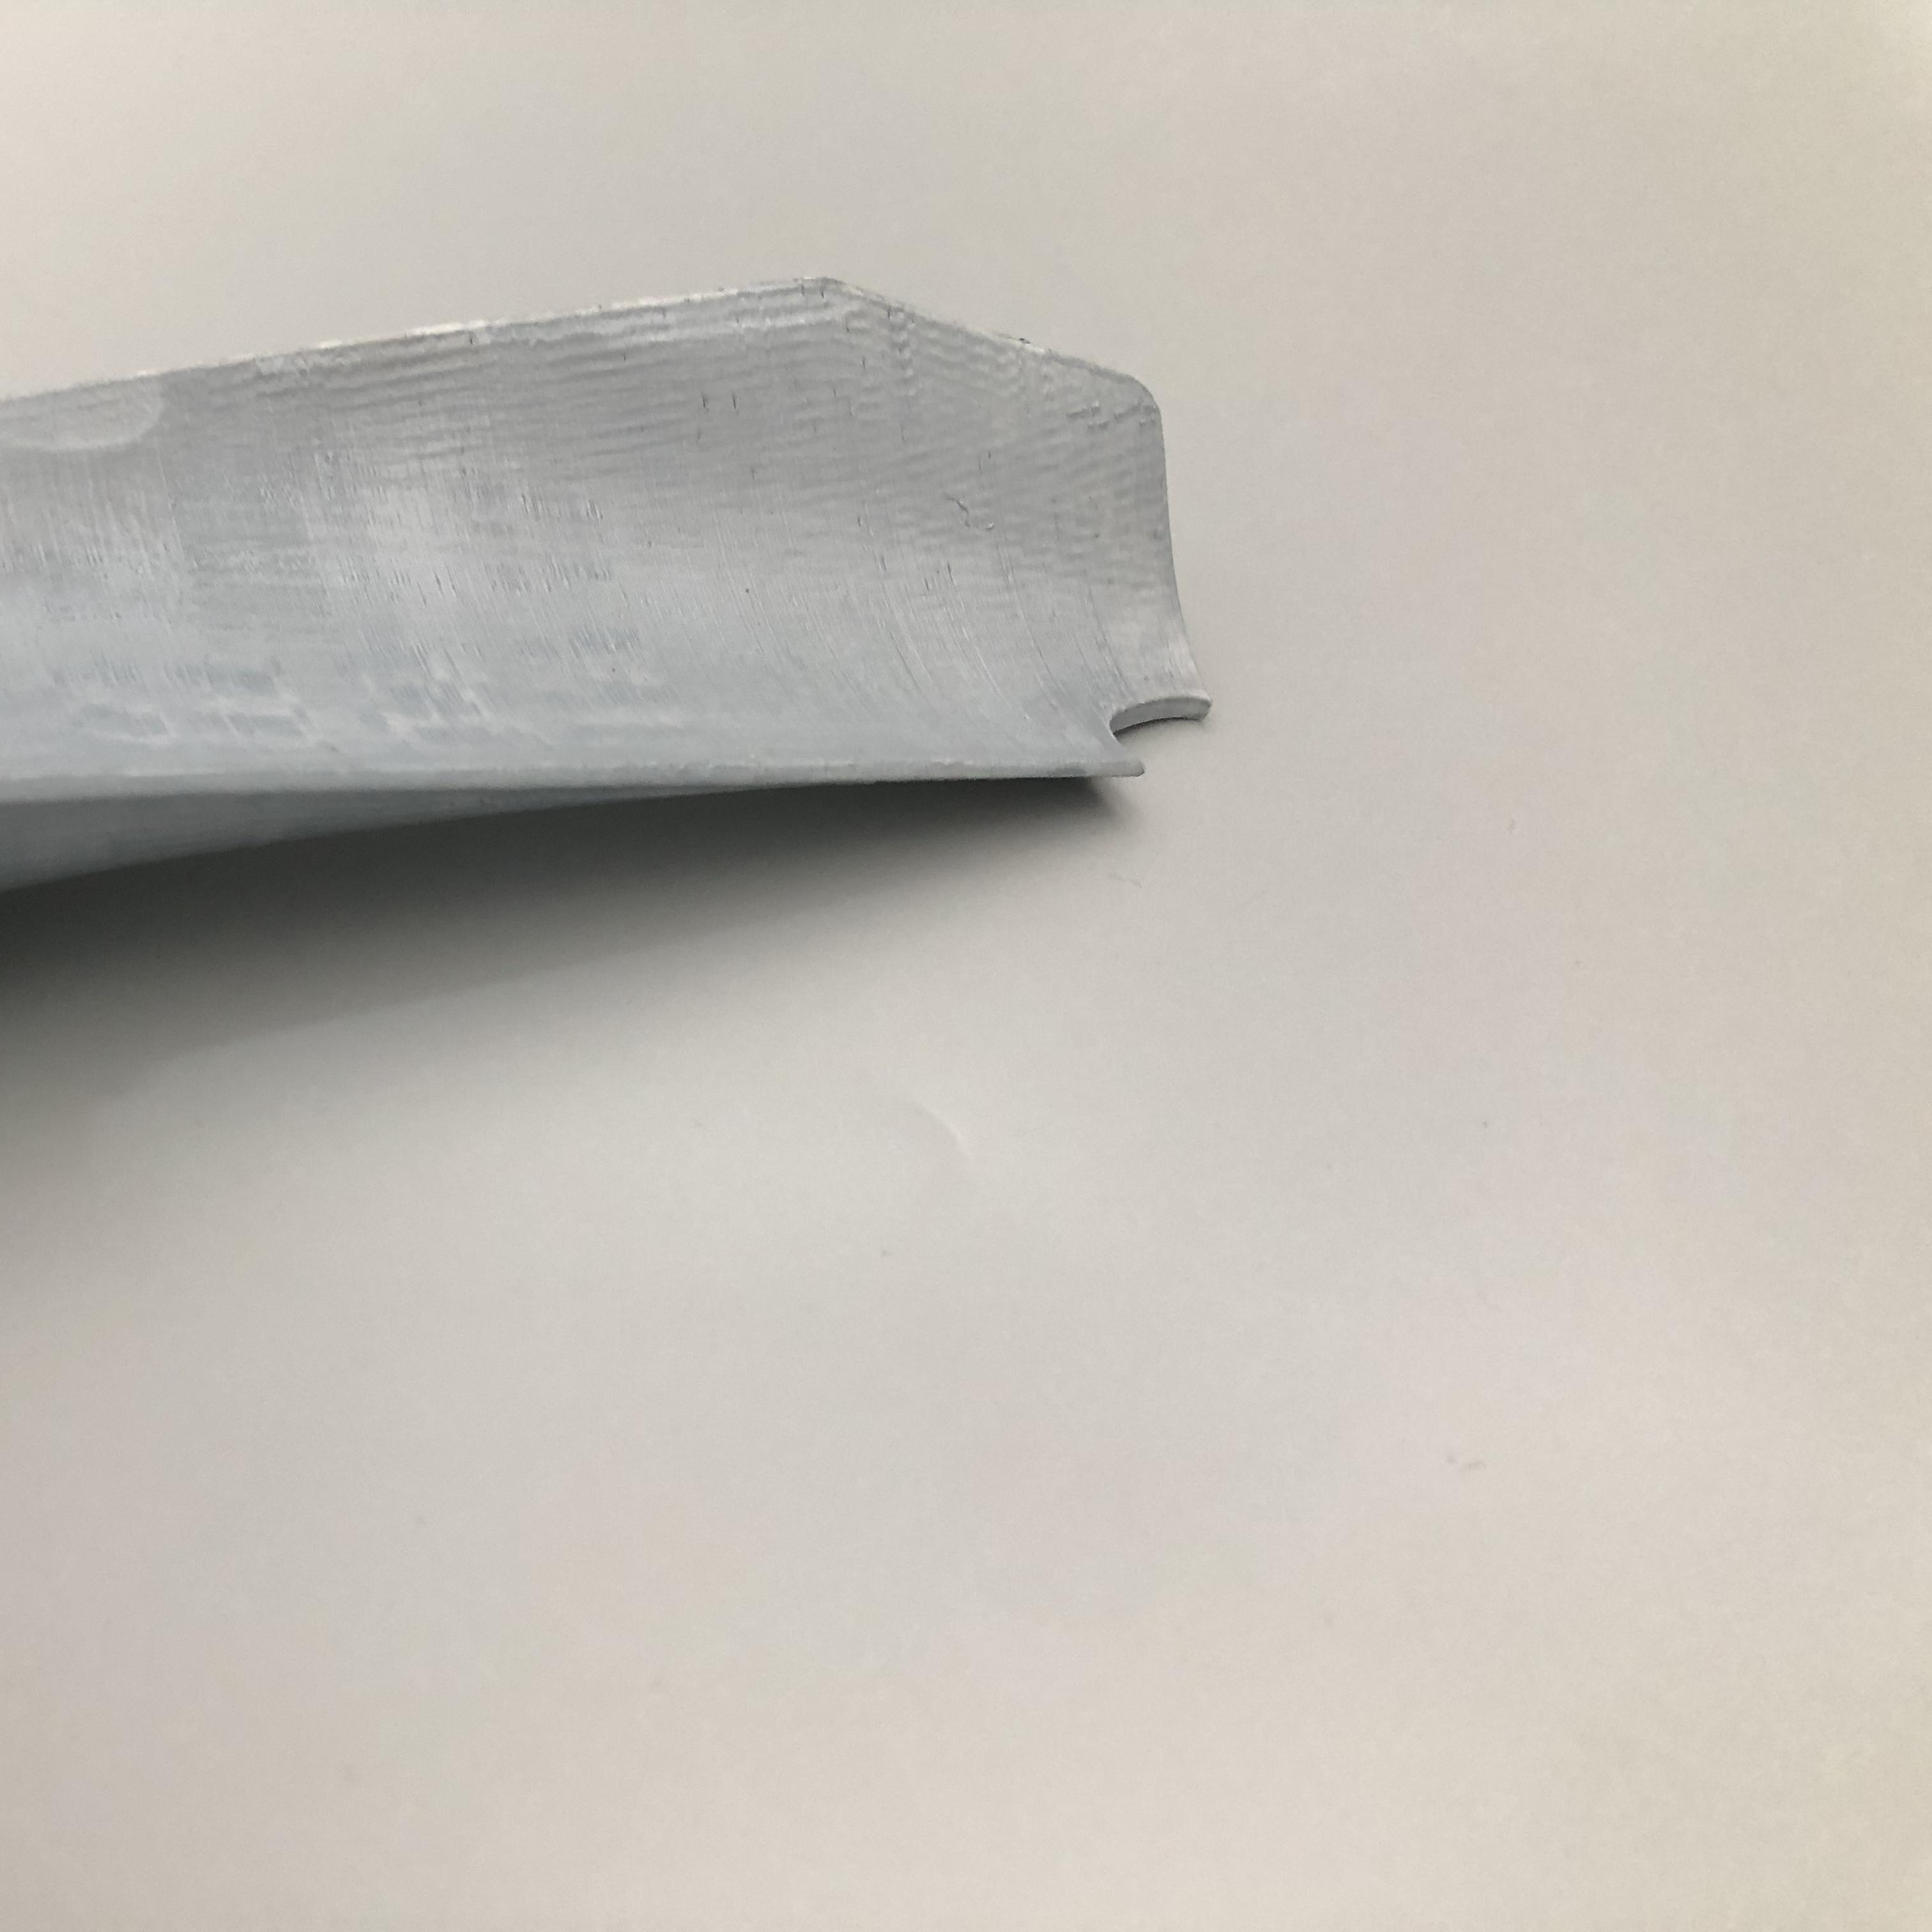fracture: (1106, 683, 1201, 775)
